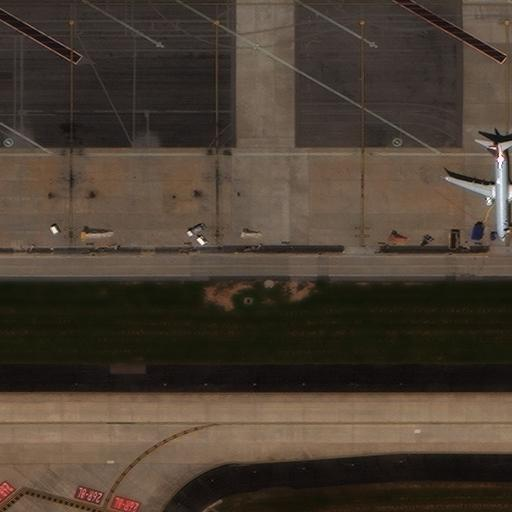Medium Civil Transport: (444, 139, 511, 243)
